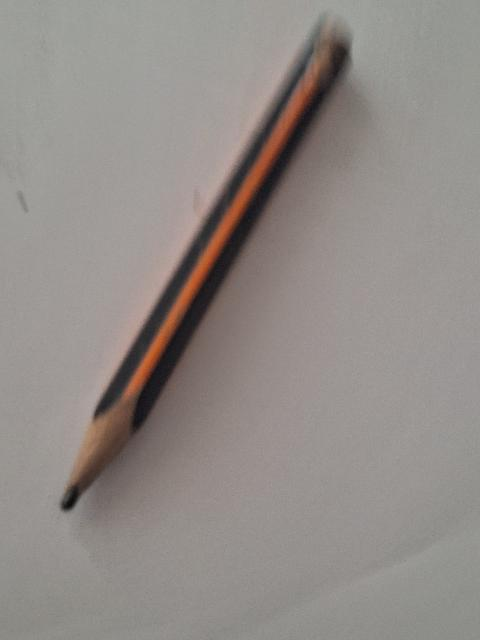writing_tool: (53, 16, 357, 507)
